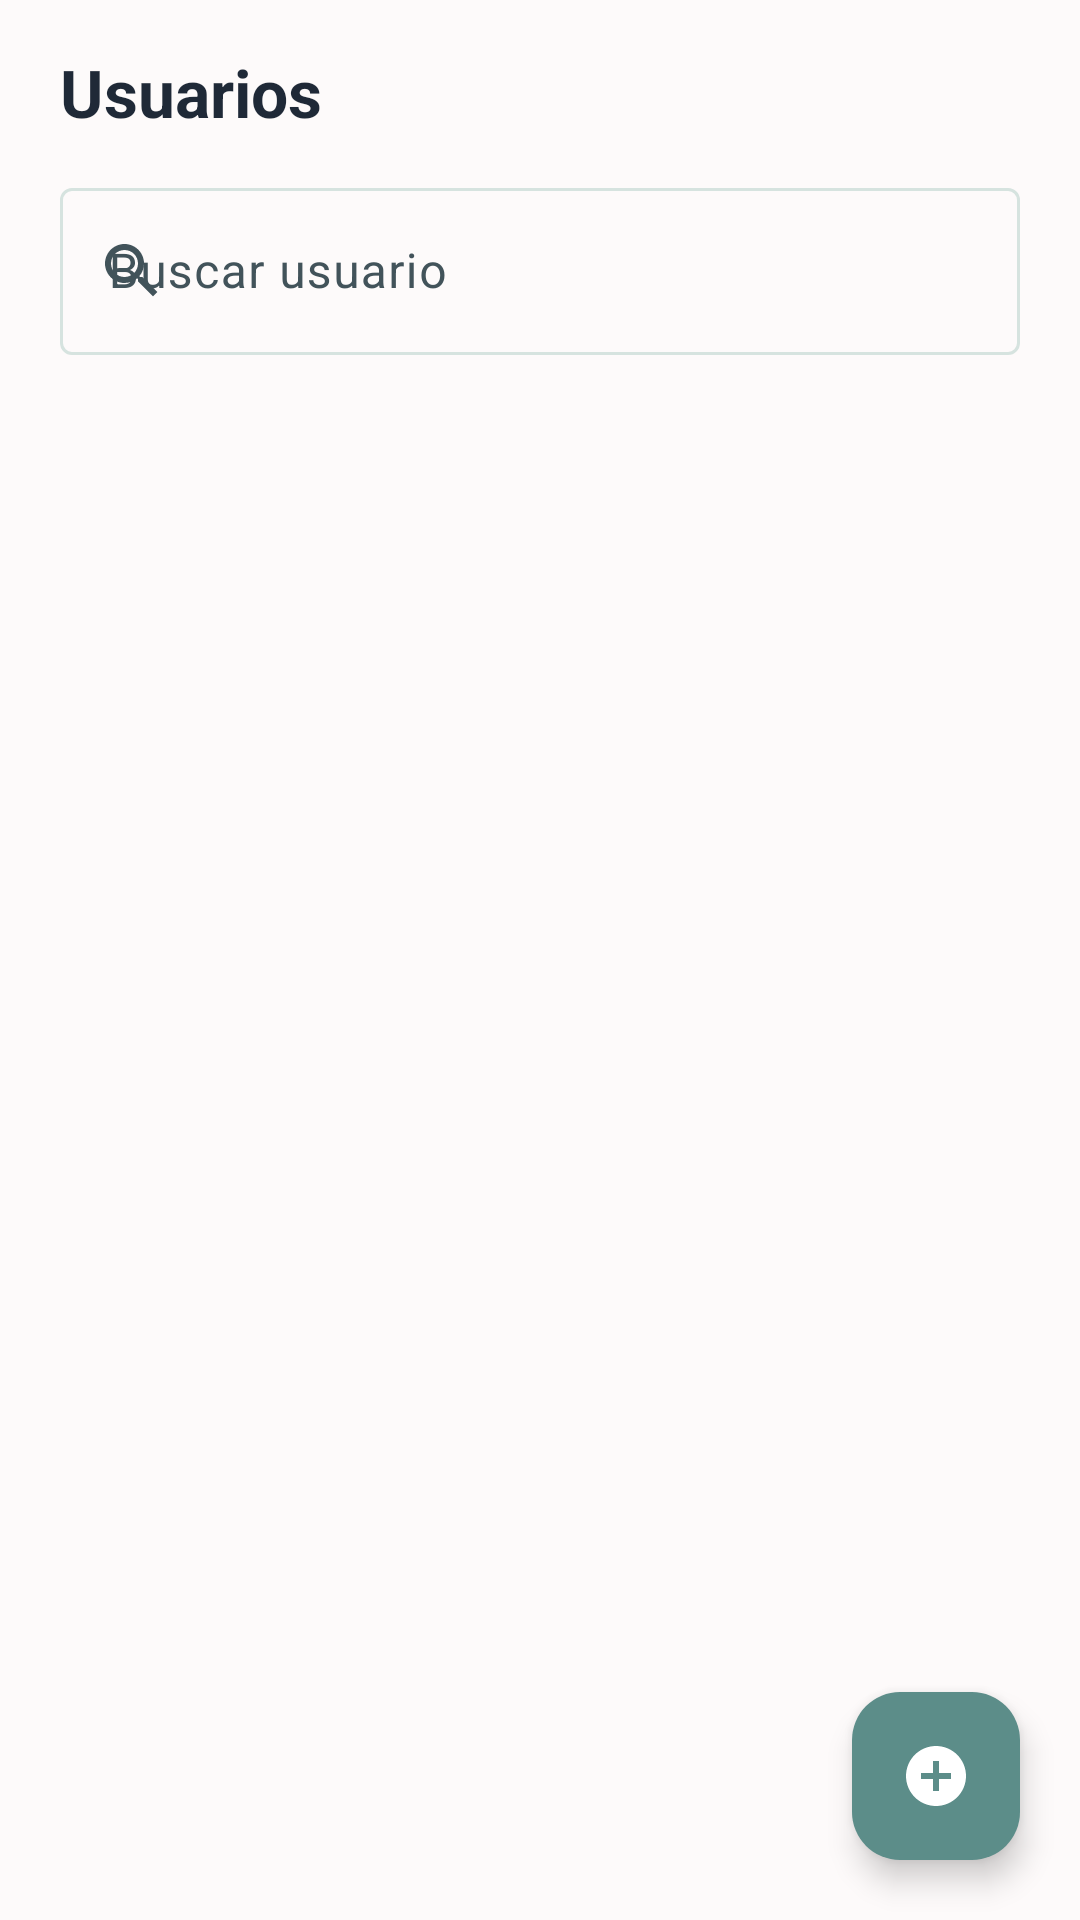

Where icons sit on this 1080*1920 app screen, as [x1=x1, y1=y1, x2=x2, y2=y2]:
Añadir usuario: [x1=852, y1=1692, x2=1020, y2=1860]
